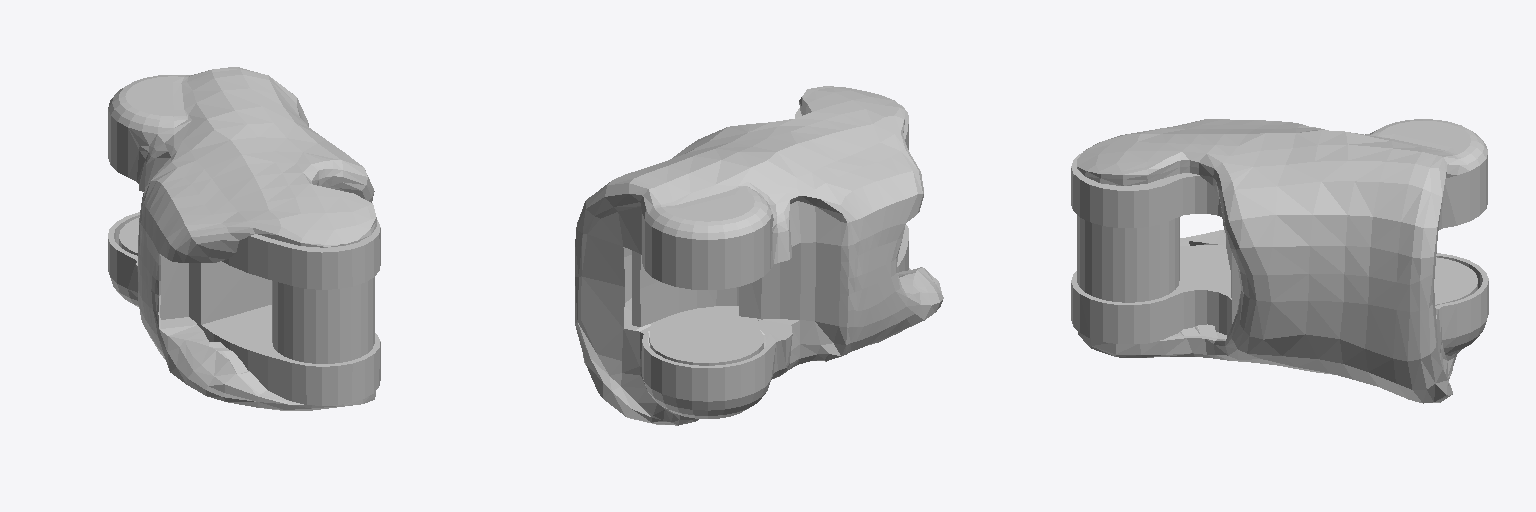
Rendered from RHipPitch.obj.
The picture shows the model from 3 angles: view 1: azimuth 30°, elevation 25°; view 2: azimuth 150°, elevation 25°; view 3: azimuth 270°, elevation 25°; orthographic projection.
Visible parts, largest first — view 1: root; view 2: root; view 3: root.
Boxes of the visible parts, x1,y1,x2,y2 form: root: [108, 67, 380, 410]; root: [575, 86, 943, 425]; root: [1071, 119, 1488, 403].
Size of the model in its own units: 95.85 by 89.55 by 143.